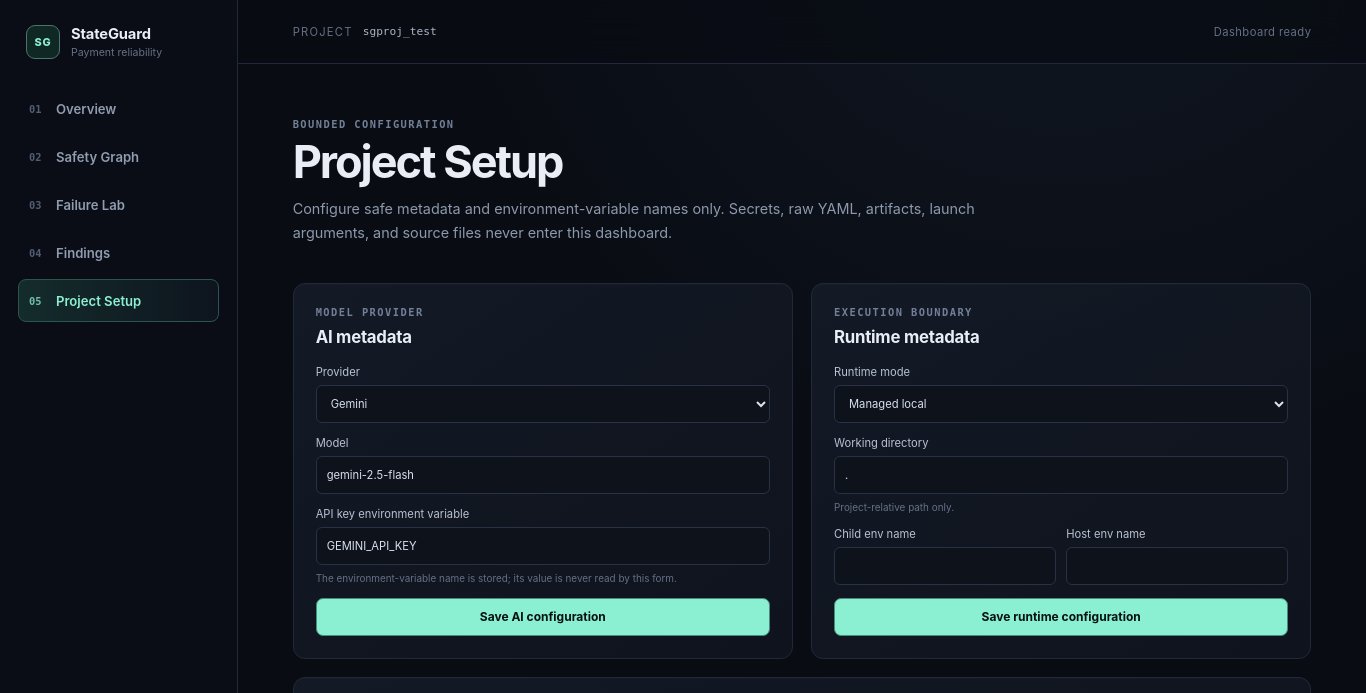
ProjectSetupPage semantic workflow integration › renders failure copy when provider resolution failed safely
Click the link "01 Overview". click: (73, 108)
box: 29,100 -> 116,116
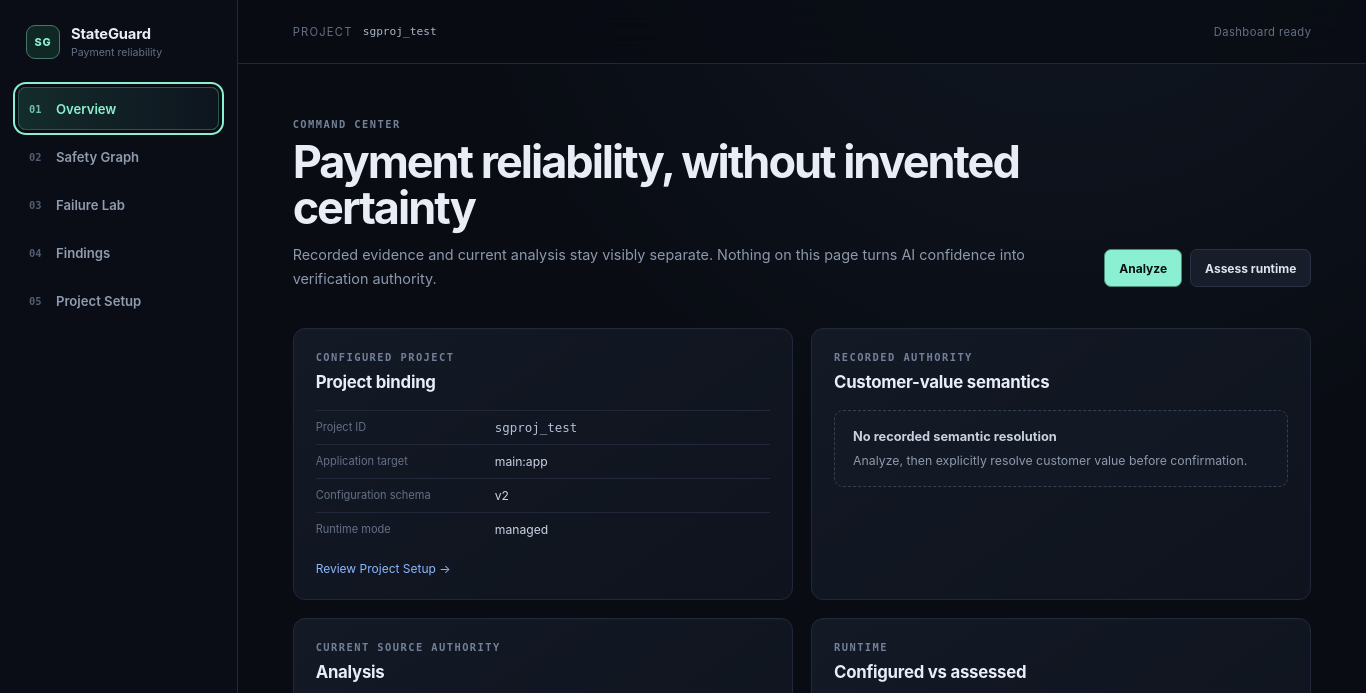
Click the button "Analyze". click: (1143, 268)
box: 1104,250 -> 1182,288
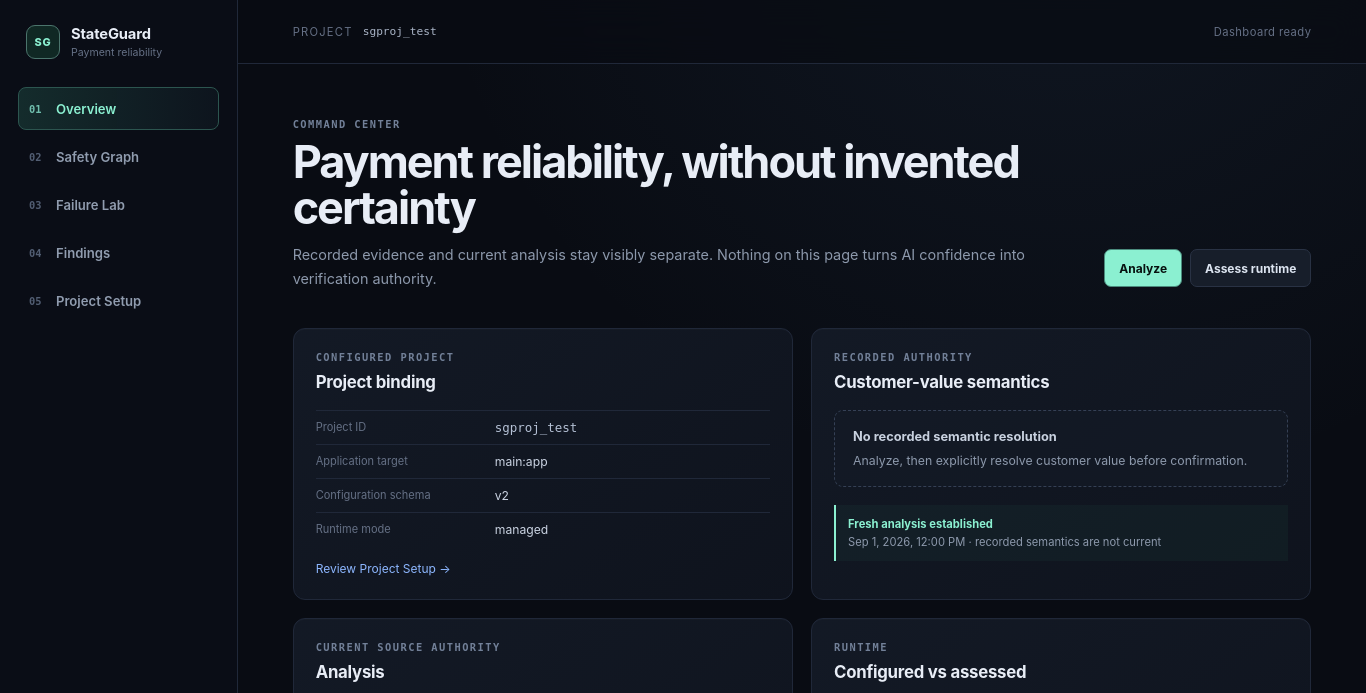
Click the link "05 Project Setup". click: (85, 300)
box: 29,292 -> 141,308
(page scrolled)
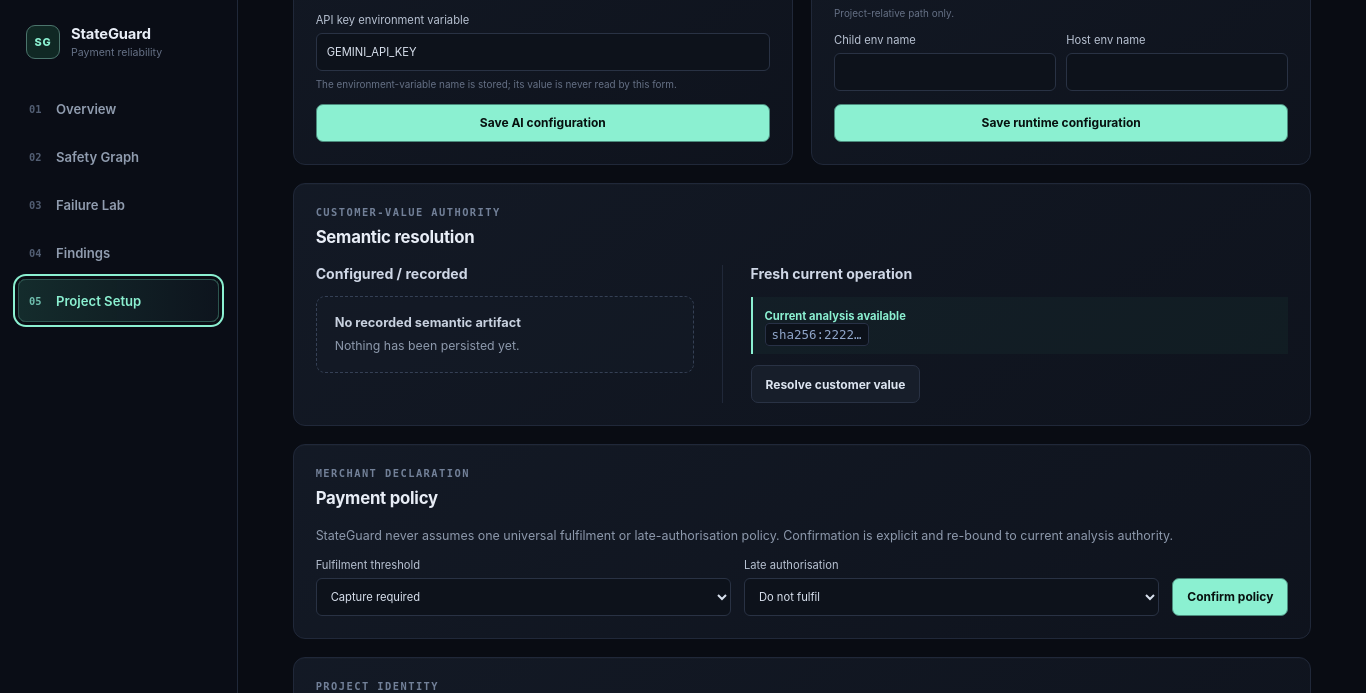
Click the button "Resolve customer value". click: (836, 384)
box: 750,365 -> 920,403
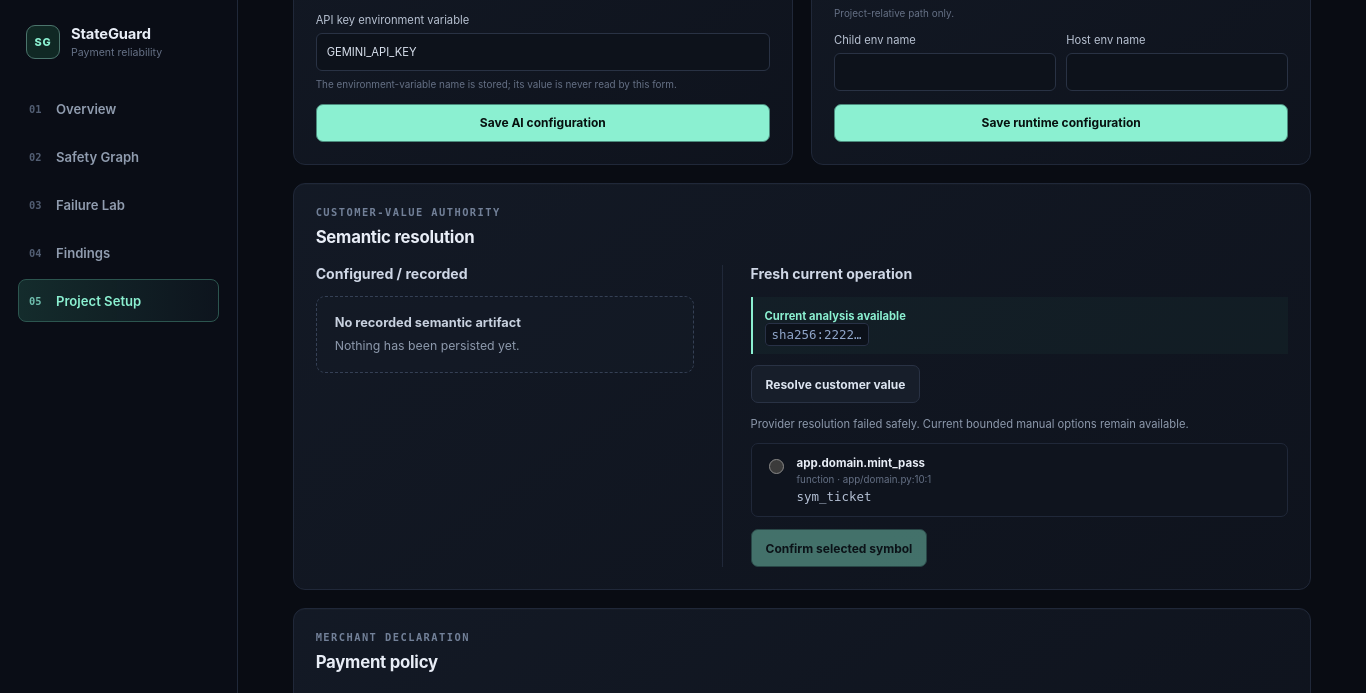
Now the text "Provider resolution failed safely. Current bounded manual options remain available." is shown, box 750,417 -> 1189,431
